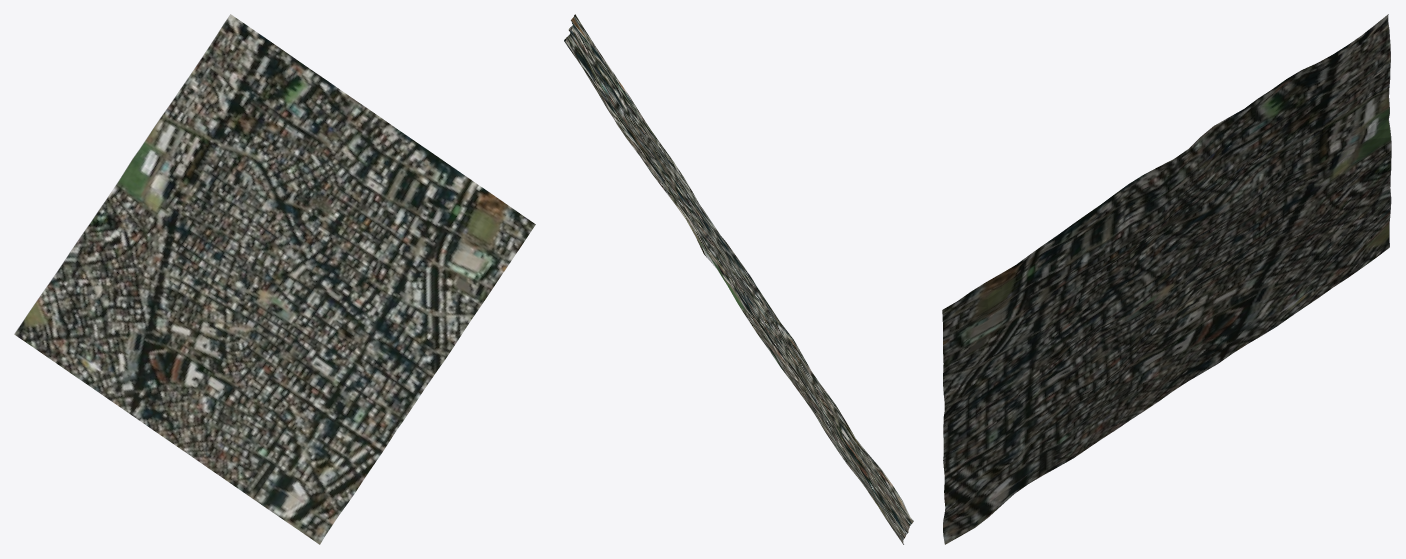
3 renders of one model, left to right at view 1: azimuth 30°, elevation 25°; view 2: azimuth 150°, elevation 25°; view 3: azimuth 270°, elevation 25°, orthographic. The views are drawn at different scales.
Size of the model in its own units: 1086 by 1140 by 806.
1 material, 1 textured.
